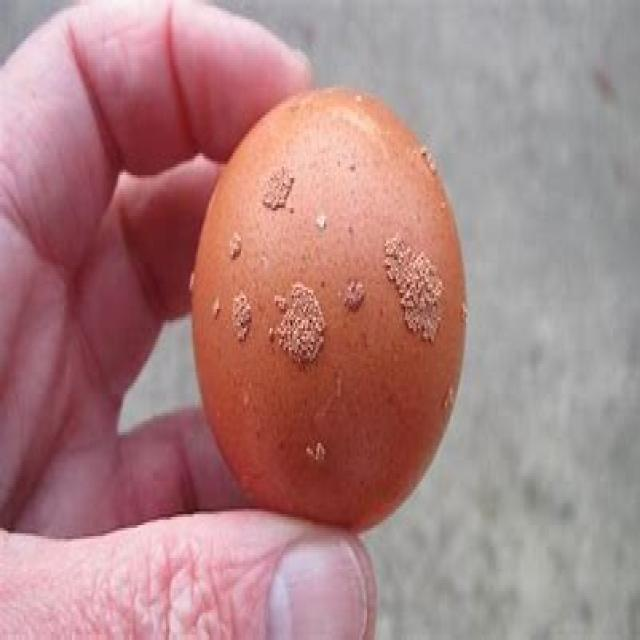Calcium Deposit Egg: (189, 64, 489, 546)
